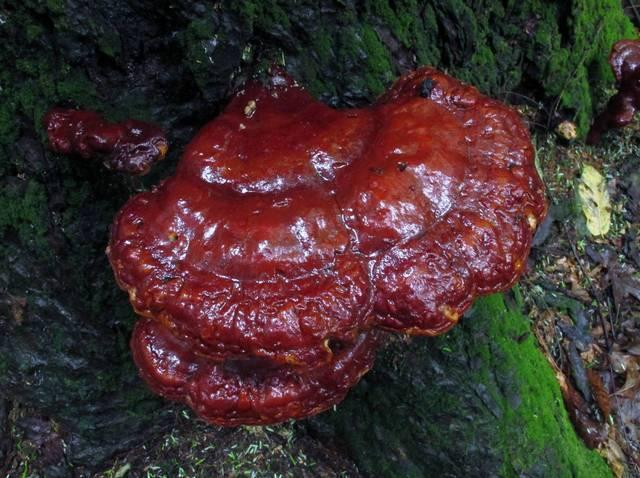Non-edible Mushroom: (103, 61, 552, 427)
